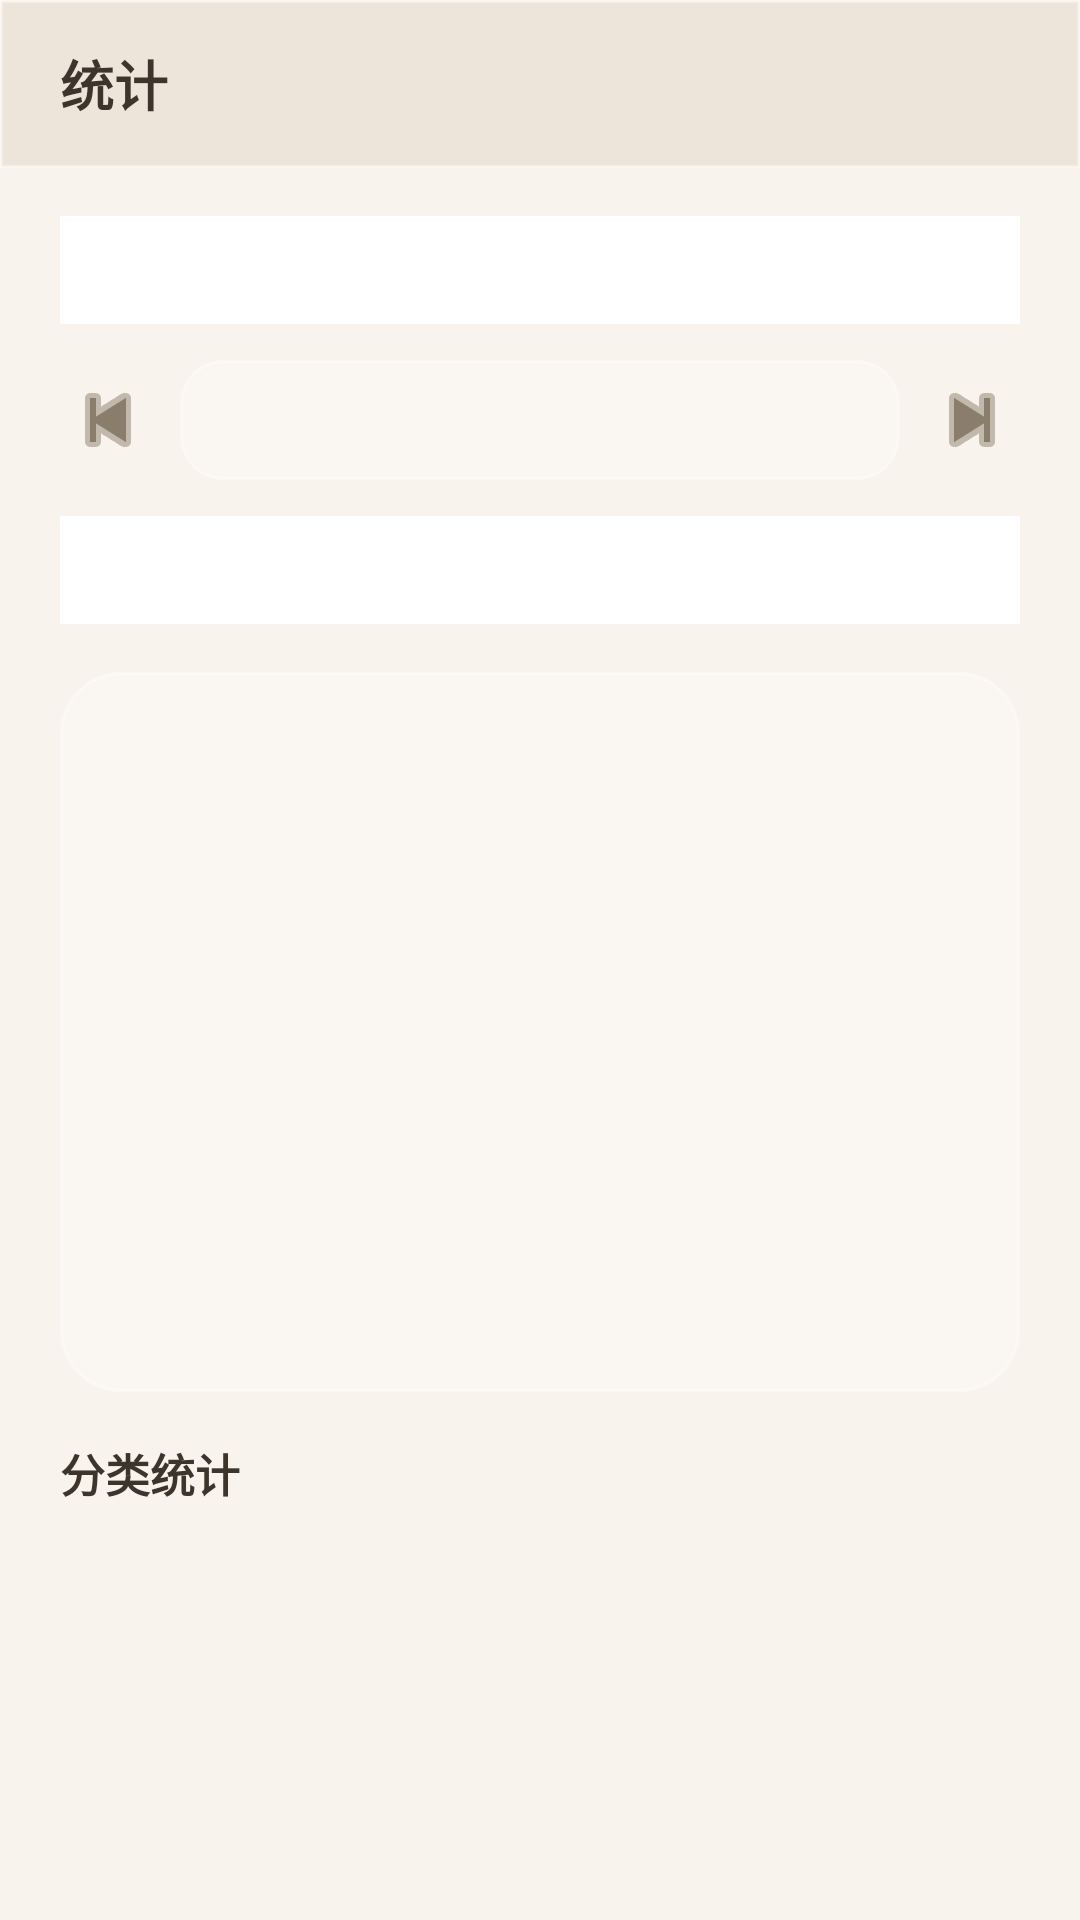

Point at icon controls on the screen. Image size 1080 x 1920, points as point (x, y).
next: point (972, 420)
previous: point (108, 420)
